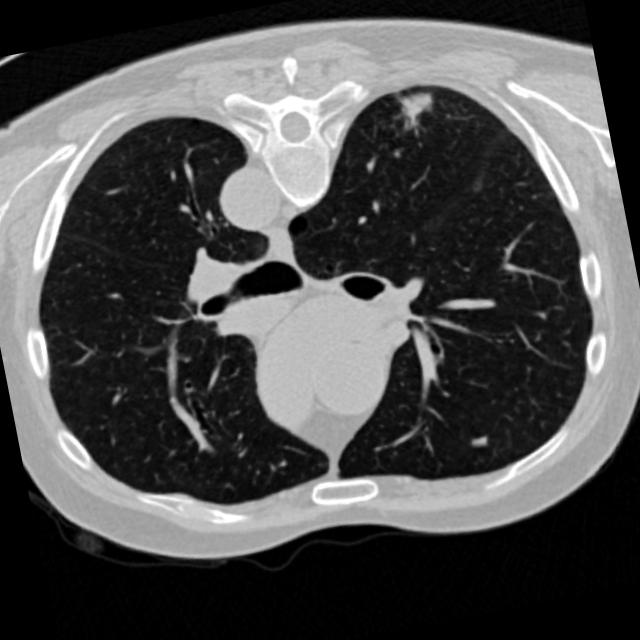nodule: (462, 422, 500, 460)
